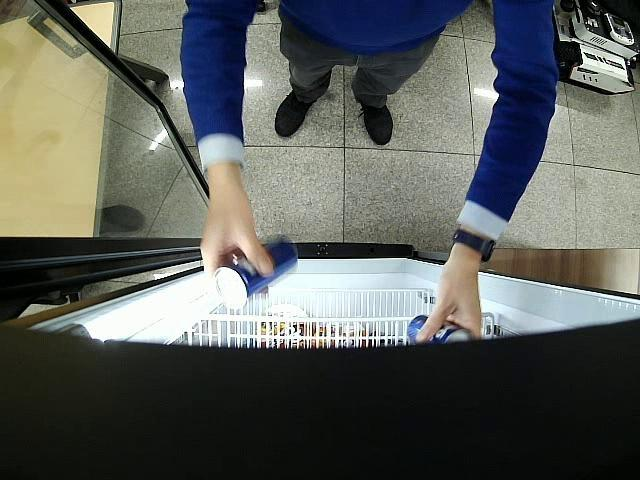16_hot6: (214, 234, 298, 310), (407, 315, 472, 345)
